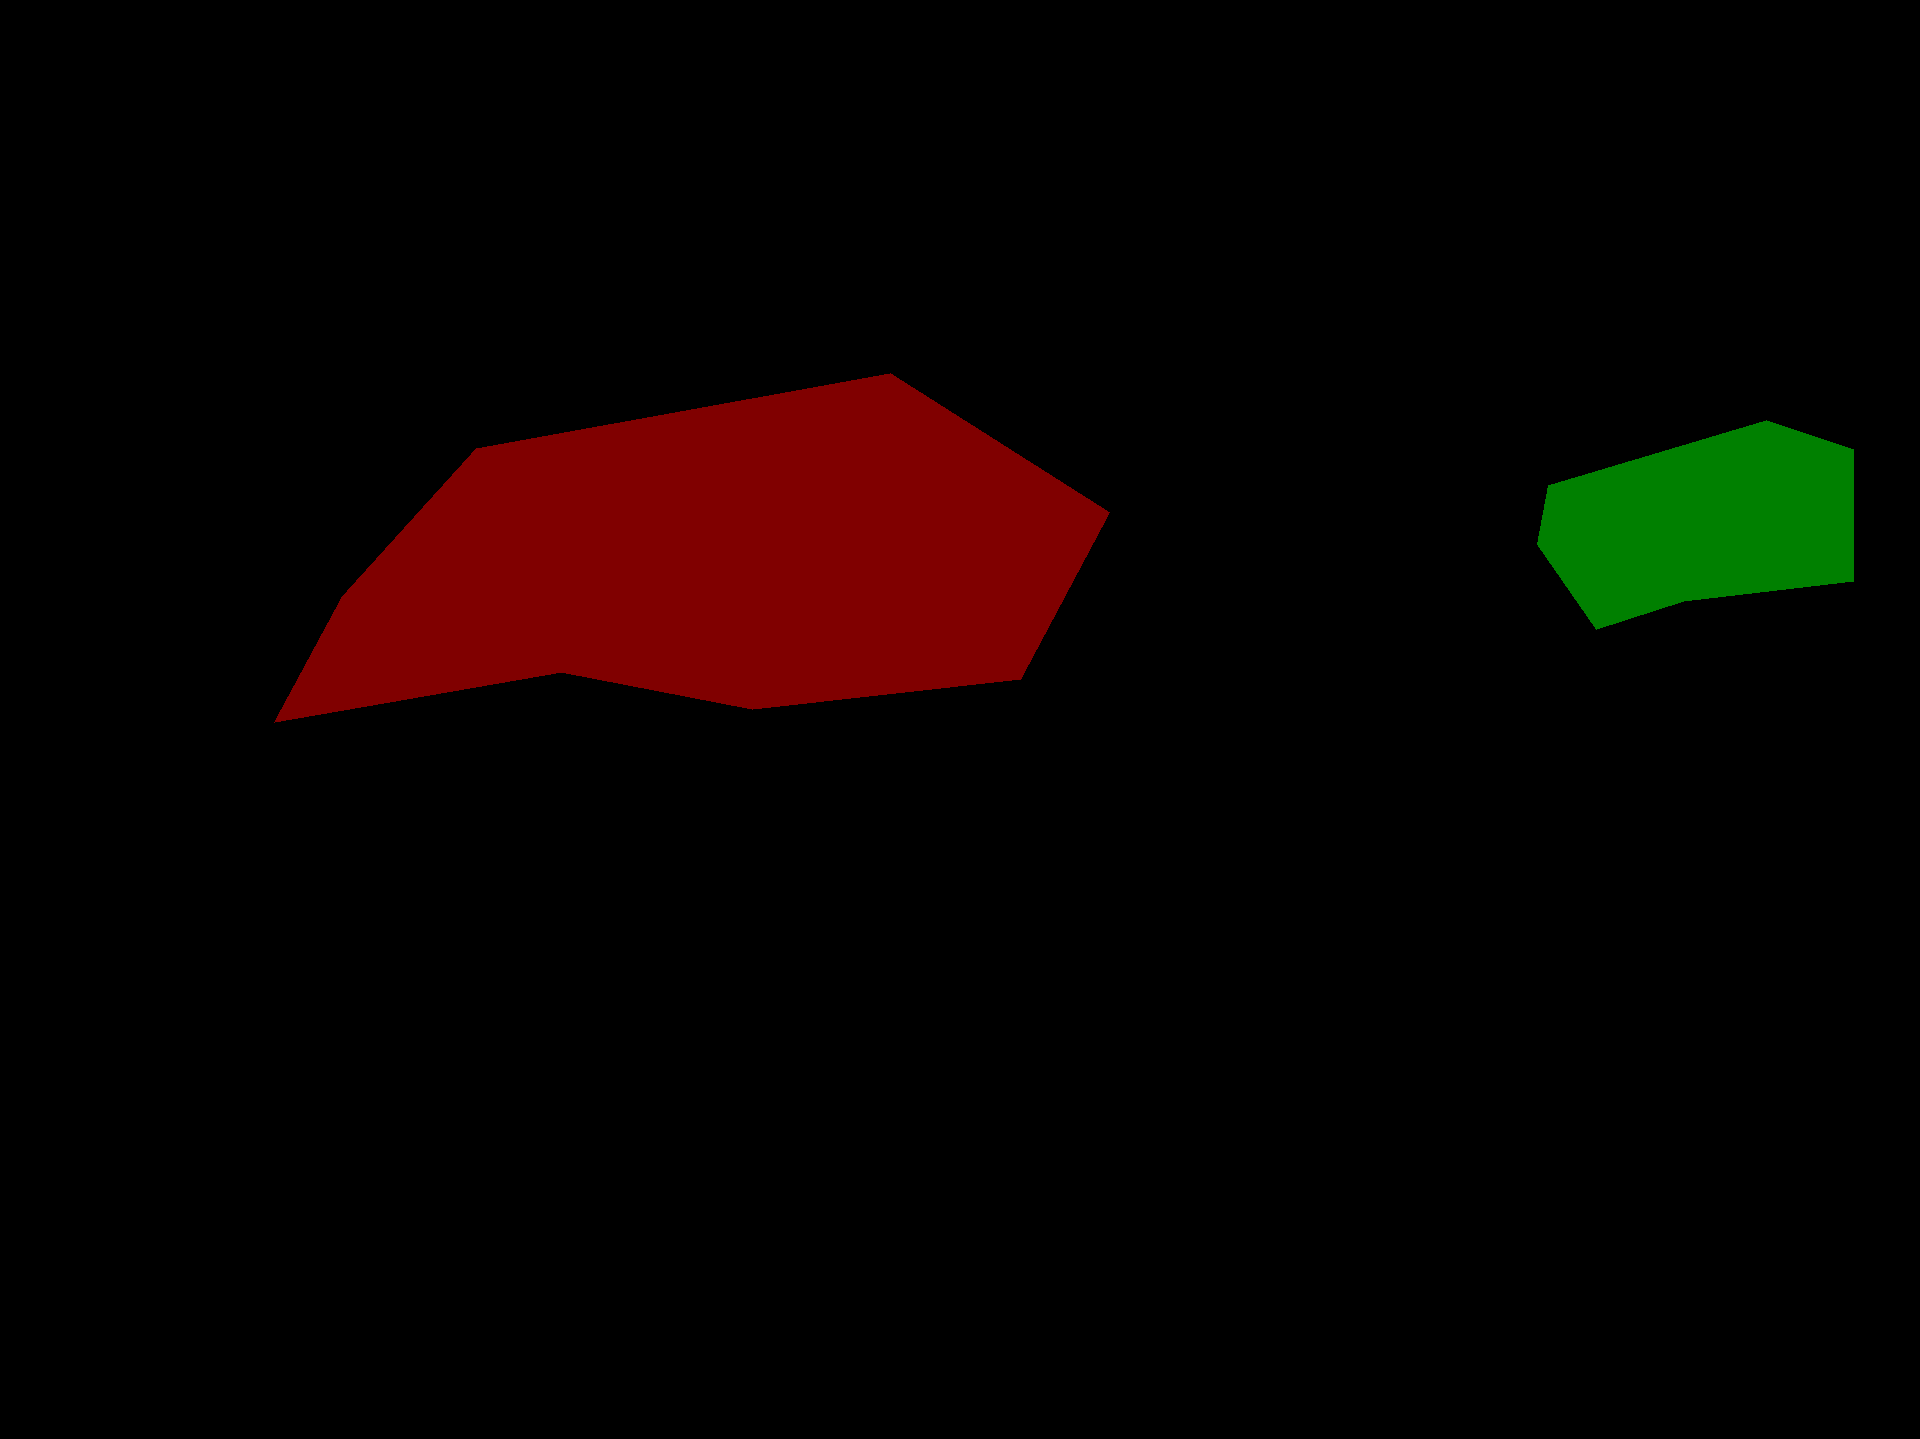fire: (274, 373, 1110, 723), (1538, 420, 1853, 629)
